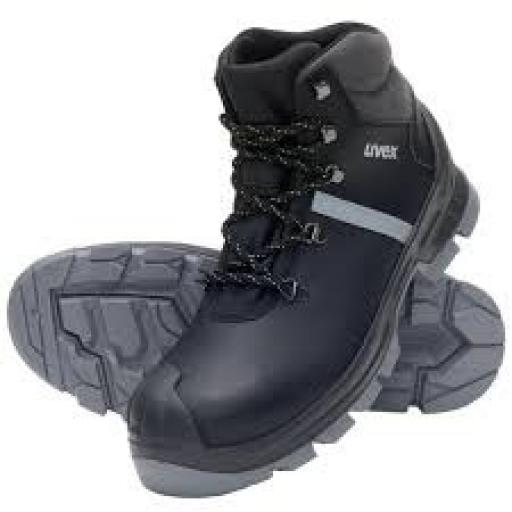safety_boots: (116, 25, 473, 505)
